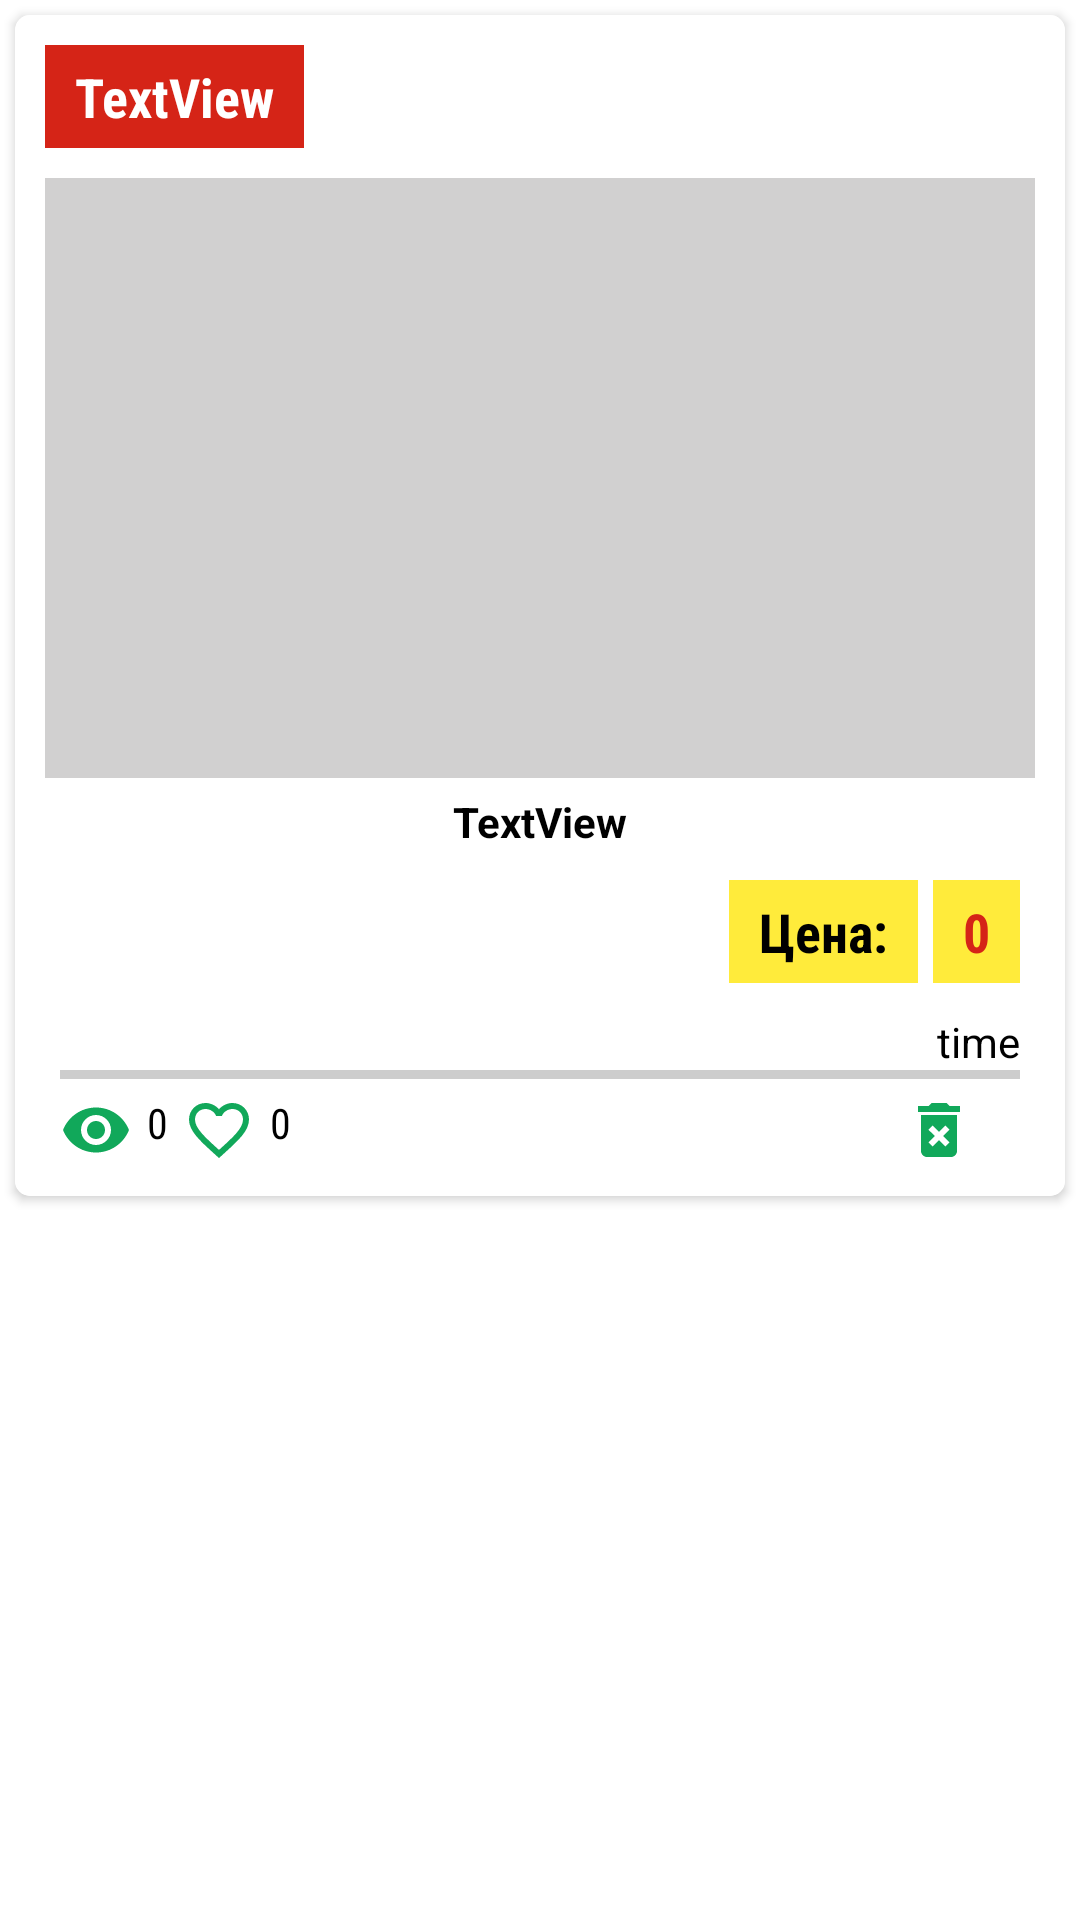

Locate icon controls on the screen. Image size 1080px×1920px, boxes as (x1, y1, x2, y2).
delete item ad: (918, 1103, 960, 1157)
eye: (63, 1107, 129, 1153)
favorite: (189, 1103, 249, 1158)
